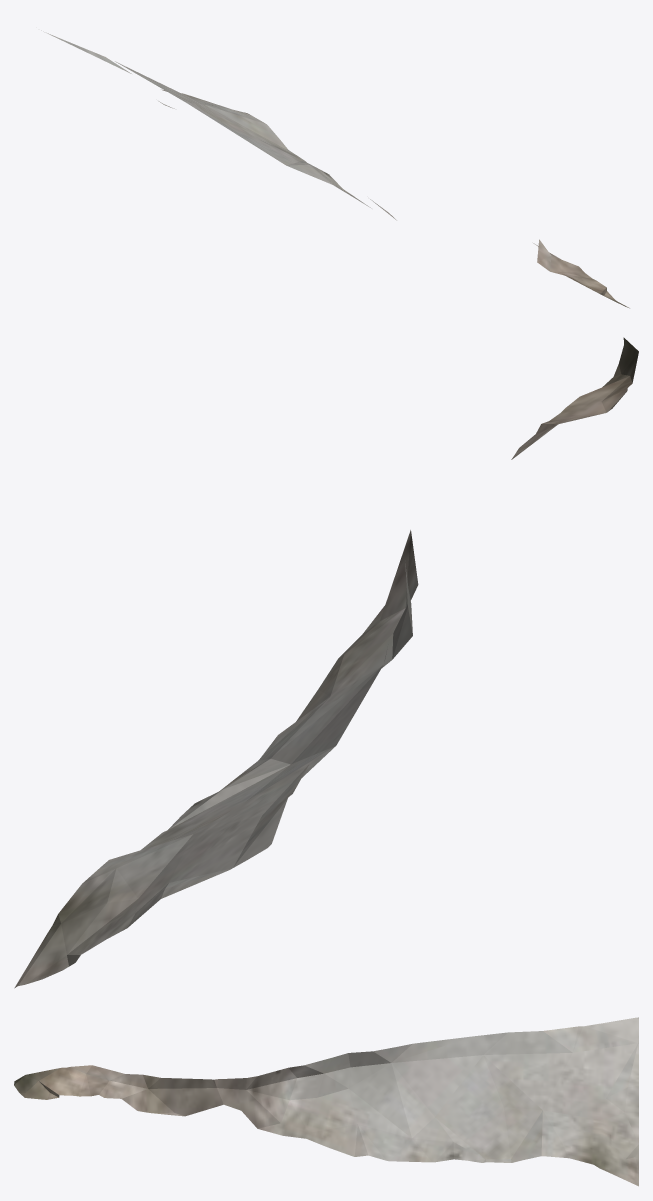
3 views of the same model, one above another, from view 1: azimuth 30°, elevation 25°; view 2: azimuth 150°, elevation 25°; view 3: azimuth 270°, elevation 25° (orthographic). The views are drawn at different scales.
Bounding box in the file's own units: 0.6814 × 0.5225 × 2.81.
Materials: 1 (1 with a texture image).
